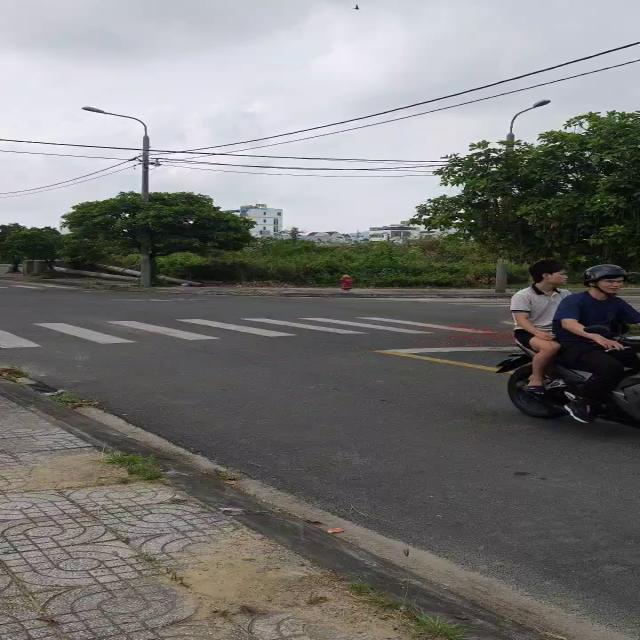helmet: (590, 258, 627, 306)
no_helmet: (530, 252, 568, 294)
